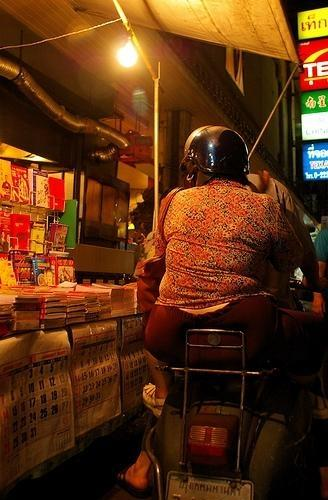motorcycle: (148, 324, 300, 494)
